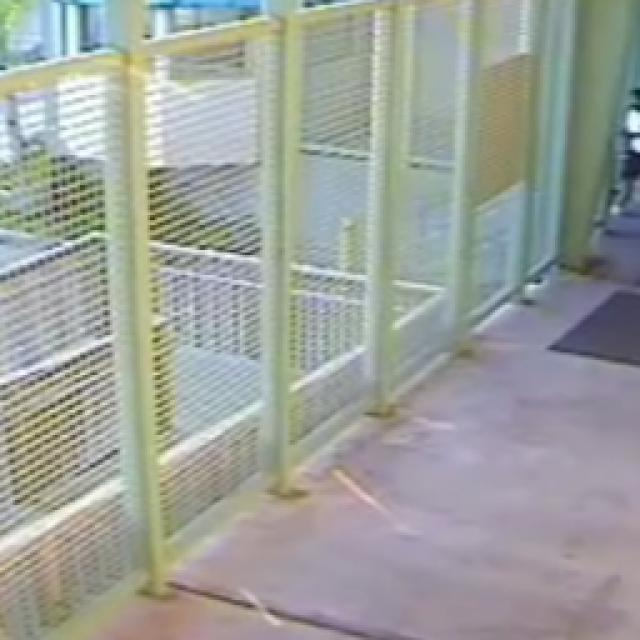person: (613, 88, 639, 212)
